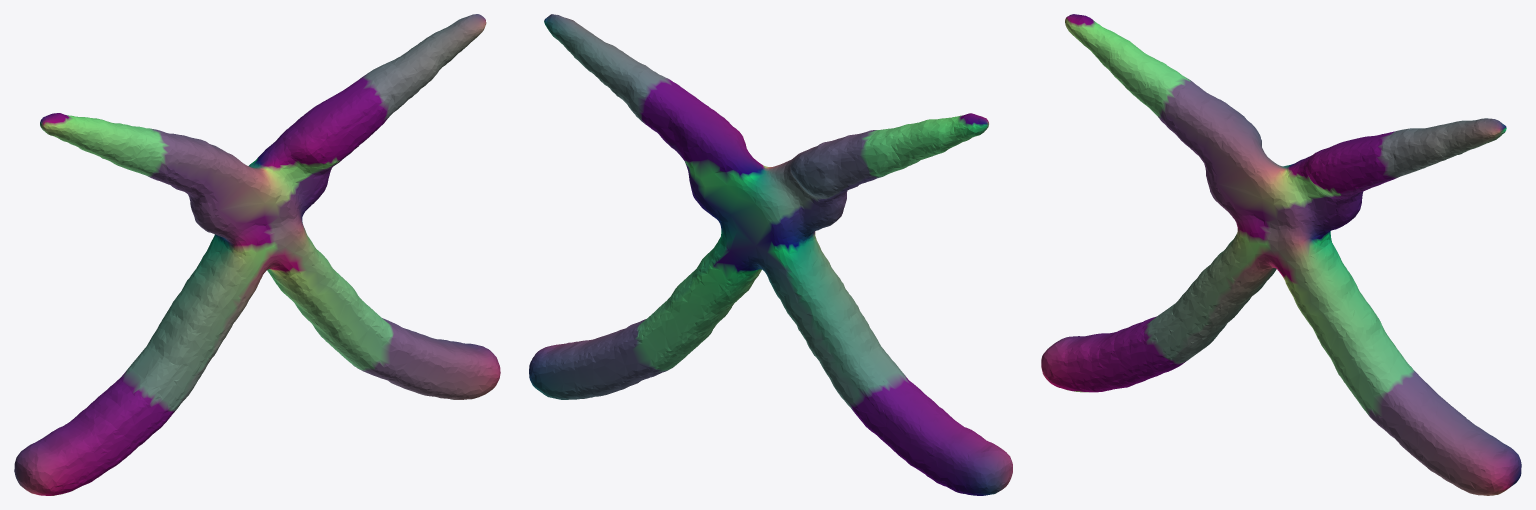
File: pliers-8.off.obj
3 views of the same model, side by side, from view 1: azimuth 30°, elevation 25°; view 2: azimuth 150°, elevation 25°; view 3: azimuth 330°, elevation 25° (orthographic).
Bounding box in the file's own units: 1.47 × 1.12 × 0.1674.
